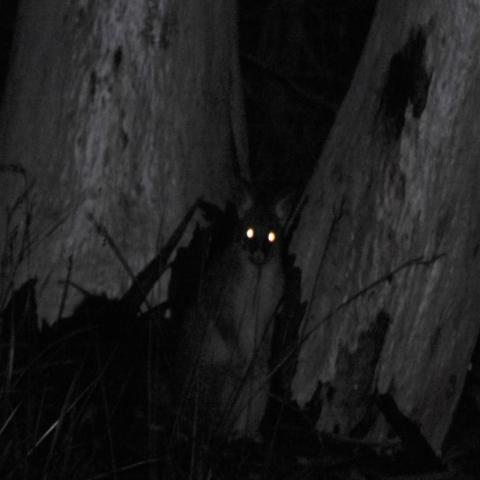small_animal: (134, 184, 302, 464)
